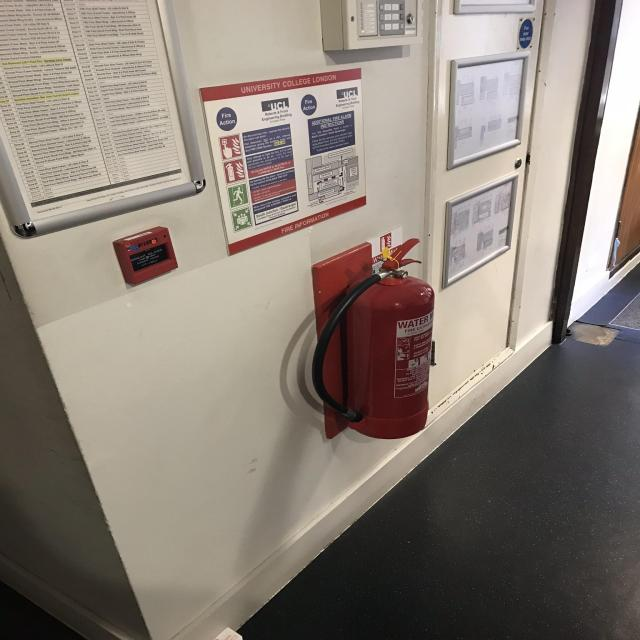fire_extinguisher: (308, 232, 440, 442)
